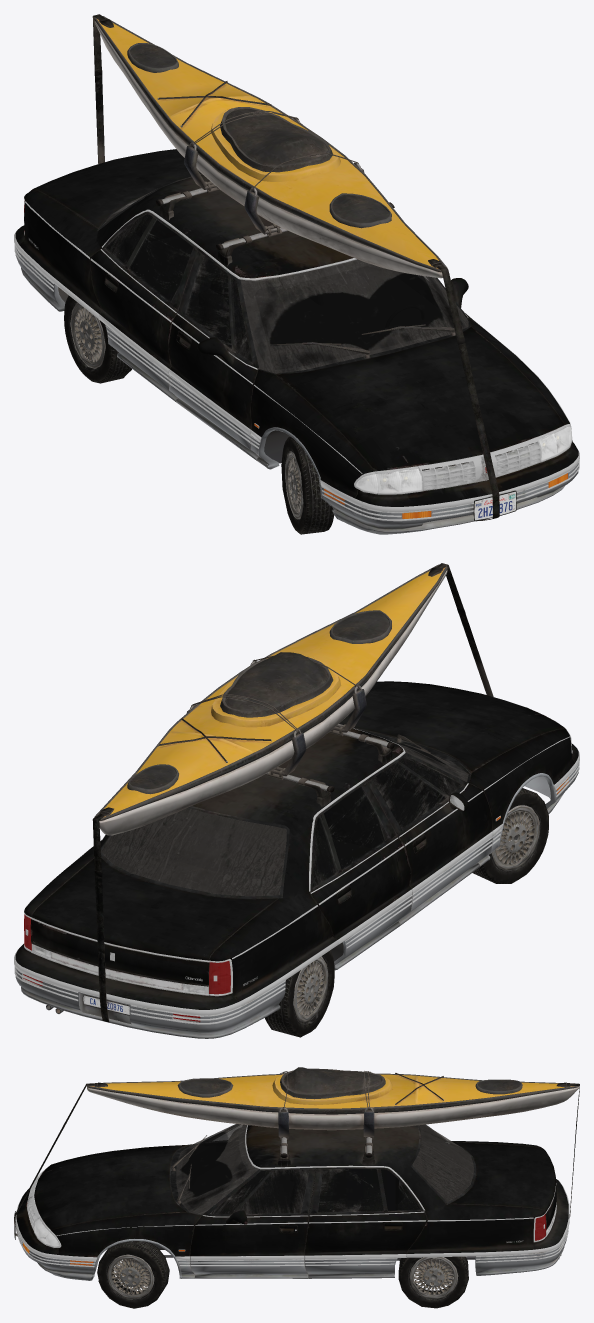
Rendered from oldsmobile-280549.glb.
3 views of the same model, one above another, from view 1: azimuth 30°, elevation 25°; view 2: azimuth 150°, elevation 25°; view 3: azimuth 270°, elevation 25° (orthographic). The views are drawn at different scales.
Parts seen in each view (by area): view 1: body, wheel-front-right, wheel-back-right; view 2: body, wheel-front-right, wheel-back-right; view 3: body, wheel-front-left, wheel-back-left.
Boxes of the visible parts, left/top/right/bottom form: body: left=14, top=14, right=579, bottom=534; wheel-front-right: left=281, top=436, right=334, bottom=534; wheel-back-right: left=64, top=295, right=131, bottom=383; body: left=14, top=563, right=579, bottom=1038; wheel-front-right: left=472, top=788, right=548, bottom=883; wheel-back-right: left=265, top=950, right=334, bottom=1037; body: left=14, top=1067, right=579, bottom=1286; wheel-front-left: left=97, top=1241, right=169, bottom=1308; wheel-back-left: left=398, top=1256, right=468, bottom=1308.
Size of the model in its own units: 2.16 by 2.18 by 5.59.
Materials: 6 (6 with a texture image).
